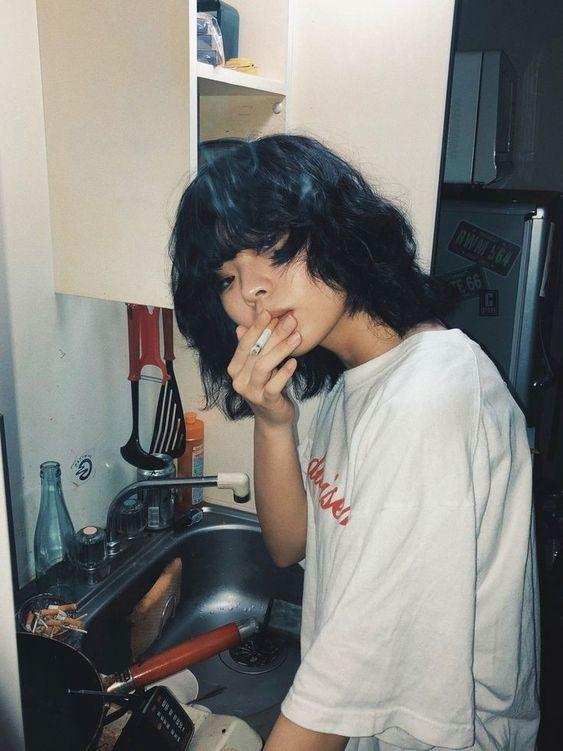cigarette: (250, 318, 280, 354)
